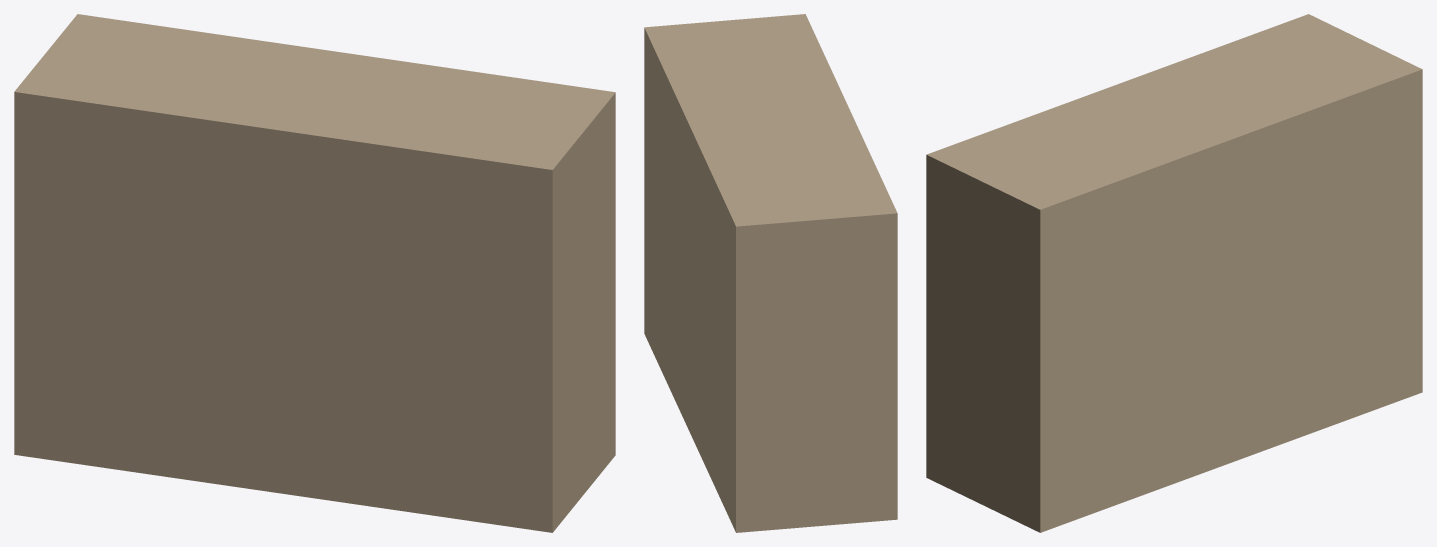
Rendered from bld_100478298.dae.
The picture shows the model from 3 angles, left to right: view 1: azimuth 30°, elevation 25°; view 2: azimuth 150°, elevation 25°; view 3: azimuth 270°, elevation 25°; orthographic projection. The views are drawn at different scales.
Visible parts, largest first — view 1: bld_100478298; view 2: bld_100478298; view 3: bld_100478298.
Boxes of the visible parts, x1=… form: bld_100478298: x1=14, y1=14, x2=615, y2=532; bld_100478298: x1=644, y1=14, x2=897, y2=532; bld_100478298: x1=926, y1=14, x2=1422, y2=532.
Size of the model in its own units: 10.4 by 11.14 by 8.
